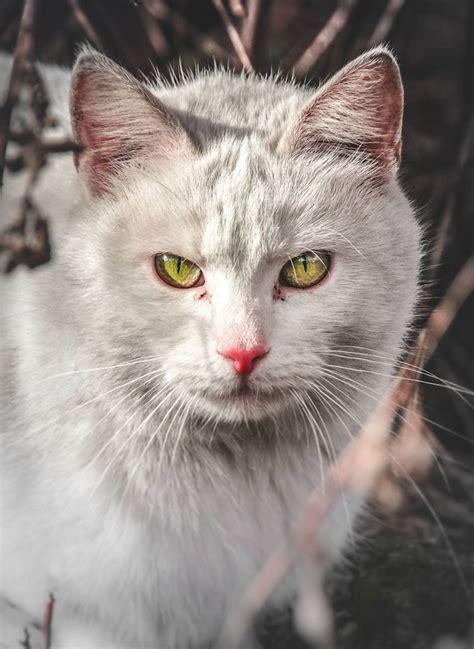cat: (1, 48, 419, 649)
